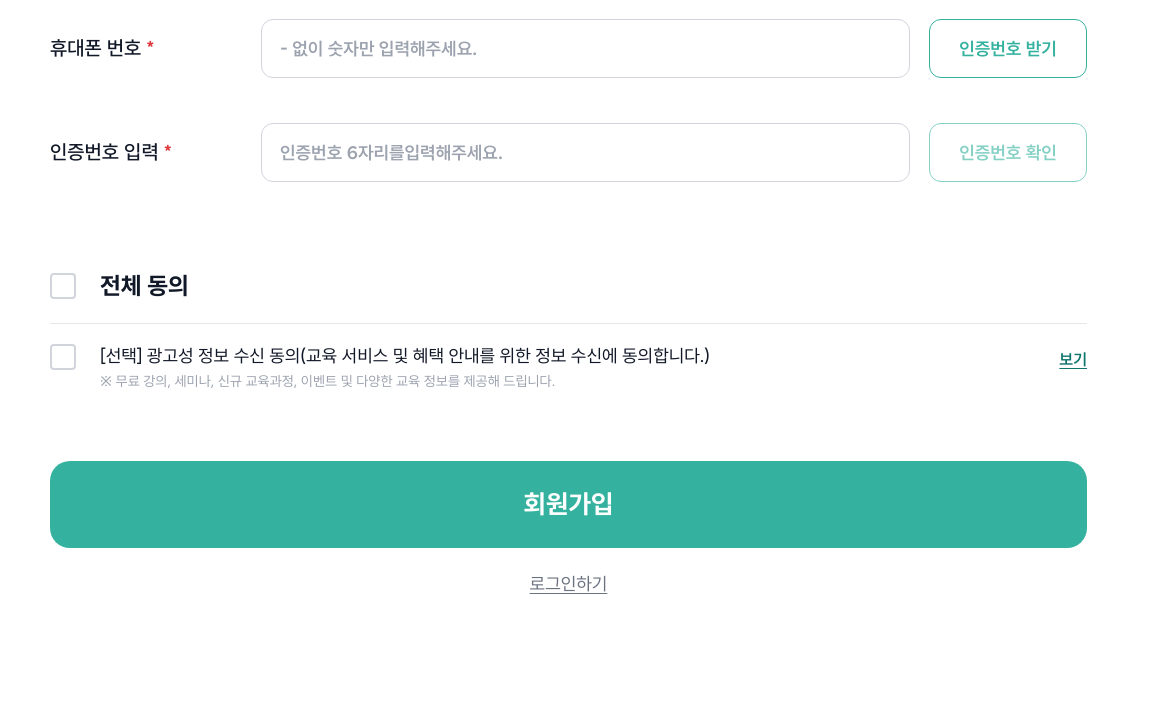
SignupPage registration terms › shows the marketing consent explanation below its display title
(page scrolled)
What coordinates should you click on to do the following:
click the button "보기"
I would click on:
 (1073, 361)
Its box is [1059, 344, 1087, 377].
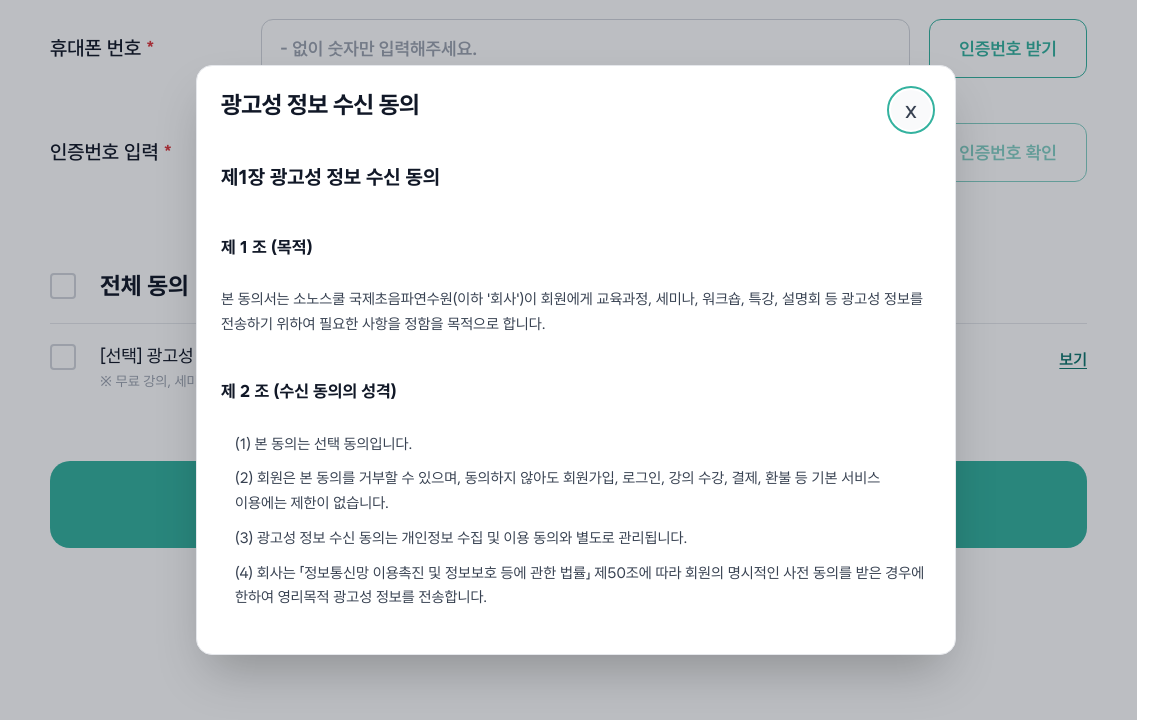
Expected: the heading "광고성 정보 수신 동의" is shown, [221, 90, 419, 120]
